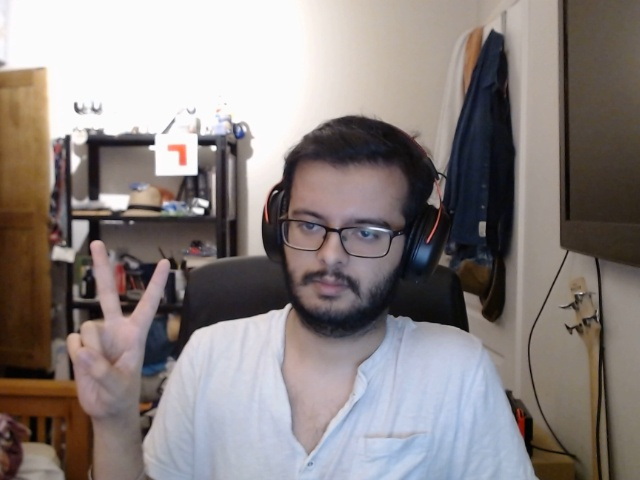Peace: (56, 236, 175, 425)
